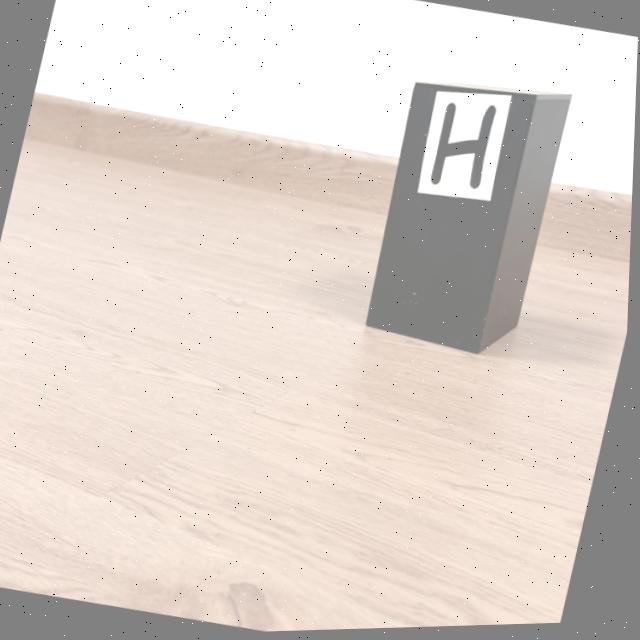H: (432, 106, 497, 193)
